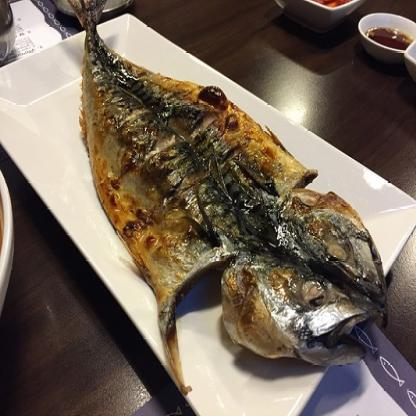Peixe: (67, 0, 394, 372)
